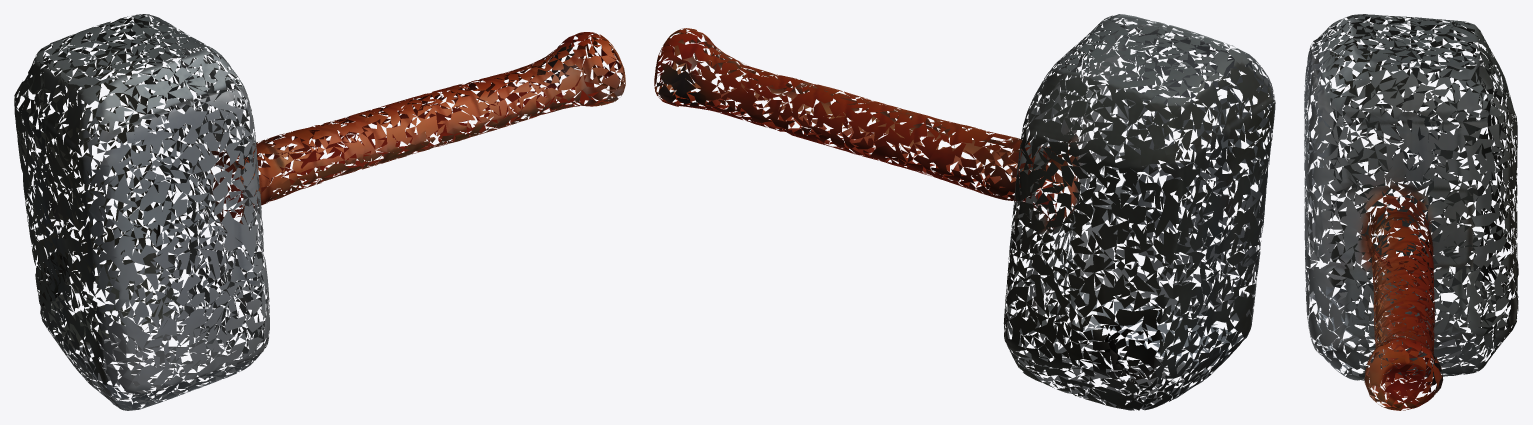
3 renders of one model, left to right at view 1: azimuth 30°, elevation 25°; view 2: azimuth 150°, elevation 25°; view 3: azimuth 270°, elevation 25°, orthographic. The views are drawn at different scales.
Visible parts, largest first — view 1: origin_geometry_eea14683cce64b28a91f529b44192f40_simplified_mesh; view 2: origin_geometry_eea14683cce64b28a91f529b44192f40_simplified_mesh; view 3: origin_geometry_eea14683cce64b28a91f529b44192f40_simplified_mesh.
Boxes of the visible parts, x1,y1,x2,y2 form: origin_geometry_eea14683cce64b28a91f529b44192f40_simplified_mesh: (14, 14, 625, 410); origin_geometry_eea14683cce64b28a91f529b44192f40_simplified_mesh: (654, 14, 1275, 410); origin_geometry_eea14683cce64b28a91f529b44192f40_simplified_mesh: (1304, 14, 1518, 410).
Bounding box in the file's own units: 1.88 × 1.07 × 0.6483.
